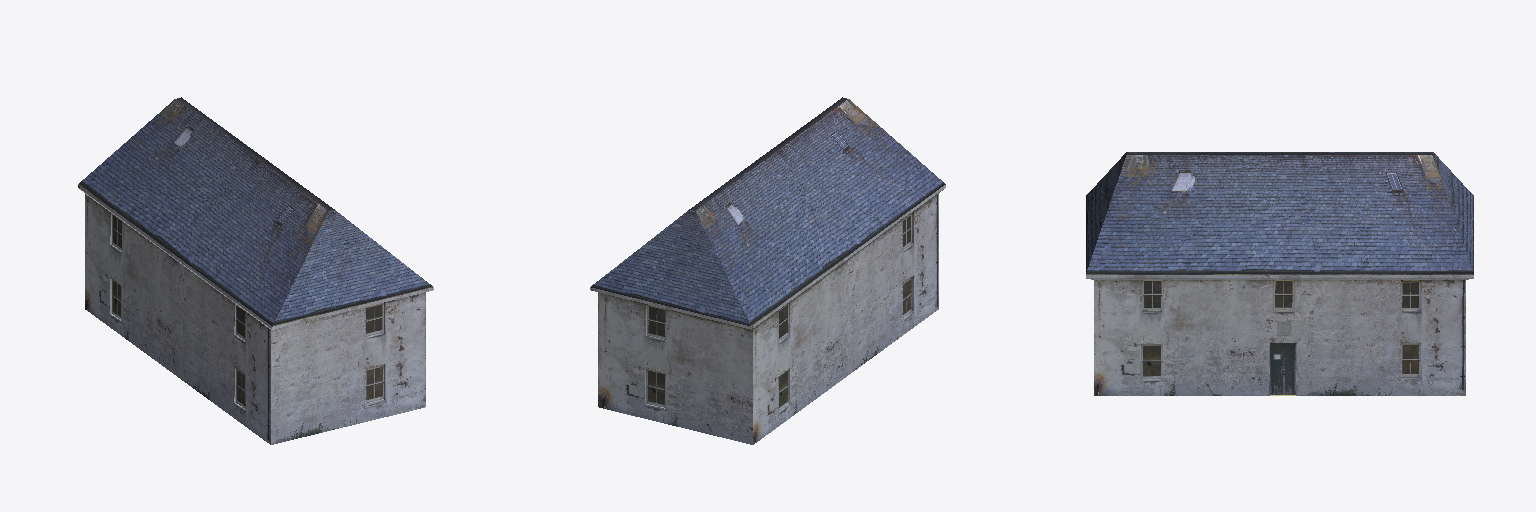
3 views of the same model, side by side, from view 1: azimuth 30°, elevation 25°; view 2: azimuth 150°, elevation 25°; view 3: azimuth 270°, elevation 25° (orthographic).
Visible parts, largest first — view 1: Material_001-material; view 2: Material_001-material; view 3: Material_001-material.
Part boxes in pixels (bbox=[...]): Material_001-material: bbox=[78, 97, 433, 444]; Material_001-material: bbox=[590, 97, 945, 444]; Material_001-material: bbox=[1086, 152, 1473, 395].
Bounding box in the file's own units: 9.95 × 12.02 × 20.76.
1 materials, 1 textured.